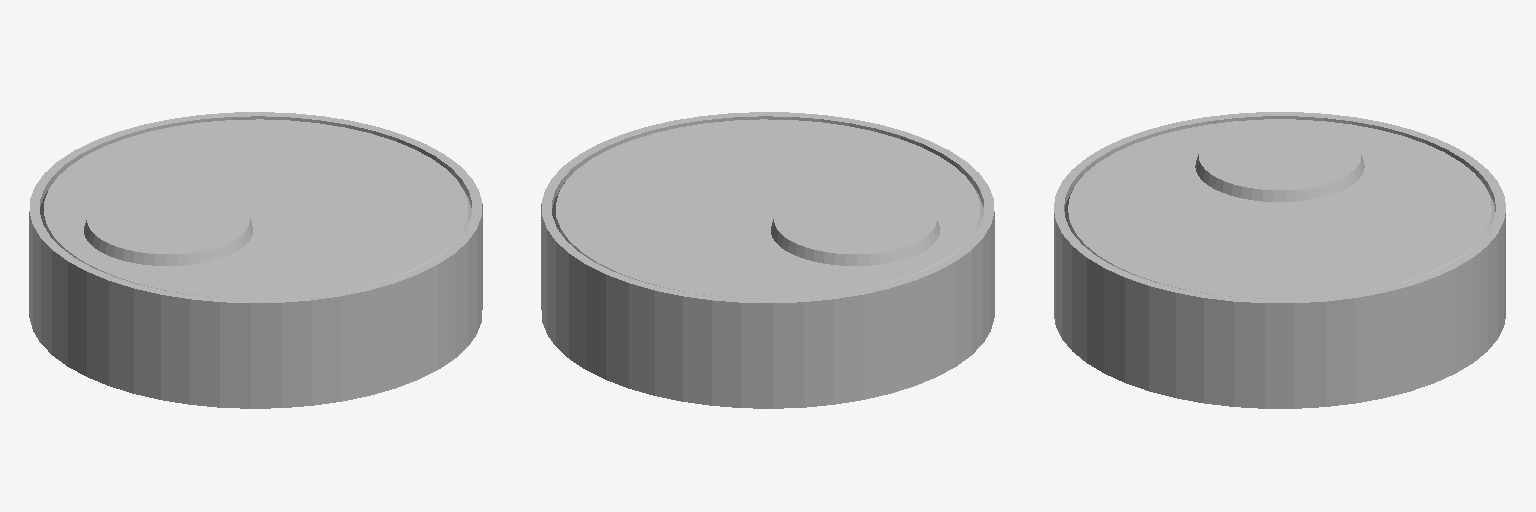
Rendered from roomba.obj.
3 views of the same model, side by side, from view 1: azimuth 30°, elevation 25°; view 2: azimuth 150°, elevation 25°; view 3: azimuth 270°, elevation 25° (orthographic).
Visible parts, largest first — view 1: Cylinder; view 2: Cylinder; view 3: Cylinder.
Part boxes in pixels (x1,y1,x2,y2): Cylinder: (29,112,482,408); Cylinder: (541,112,994,408); Cylinder: (1054,112,1505,408).
Size of the model in its own units: 0.35 by 0.0976 by 0.35.